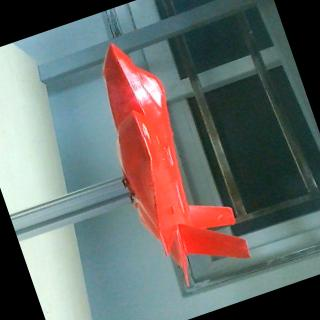Jet: (79, 21, 252, 294)
